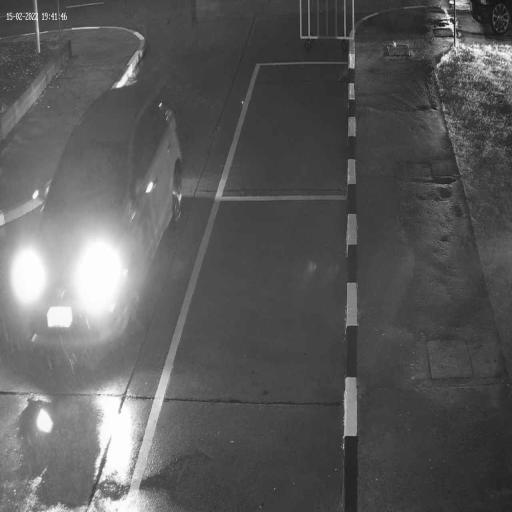car: (24, 95, 184, 351)
